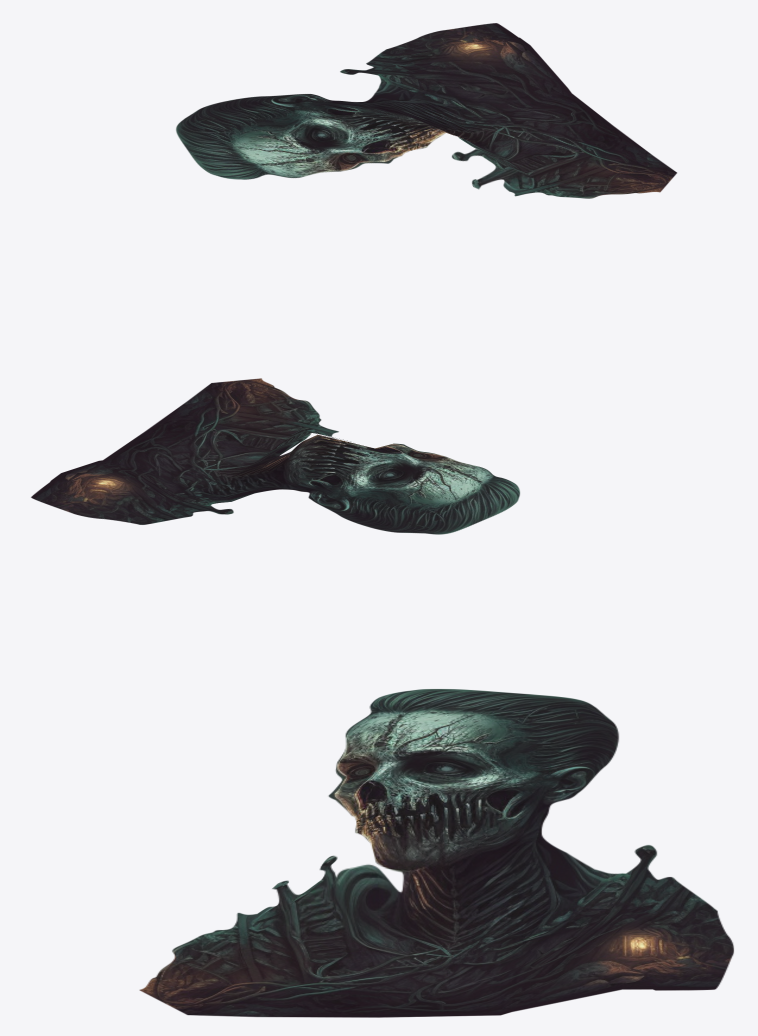
File: mainPage.glb
The picture shows the model from 3 angles, top to bottom: view 1: azimuth 30°, elevation 25°; view 2: azimuth 150°, elevation 25°; view 3: azimuth 270°, elevation 25°; orthographic projection. The views are drawn at different scales.
Visible parts, largest first — view 1: MainPage; view 2: MainPage; view 3: MainPage.
Boxes of the visible parts, x1=… form: MainPage: x1=176, y1=23, x2=676, y2=198; MainPage: x1=31, y1=378, x2=519, y2=534; MainPage: x1=139, y1=688, x2=734, y2=1017.
Bounding box in the file's own units: 0.6667 × 0.0518 × 0.6.
Materials: 1 (1 with a texture image).
